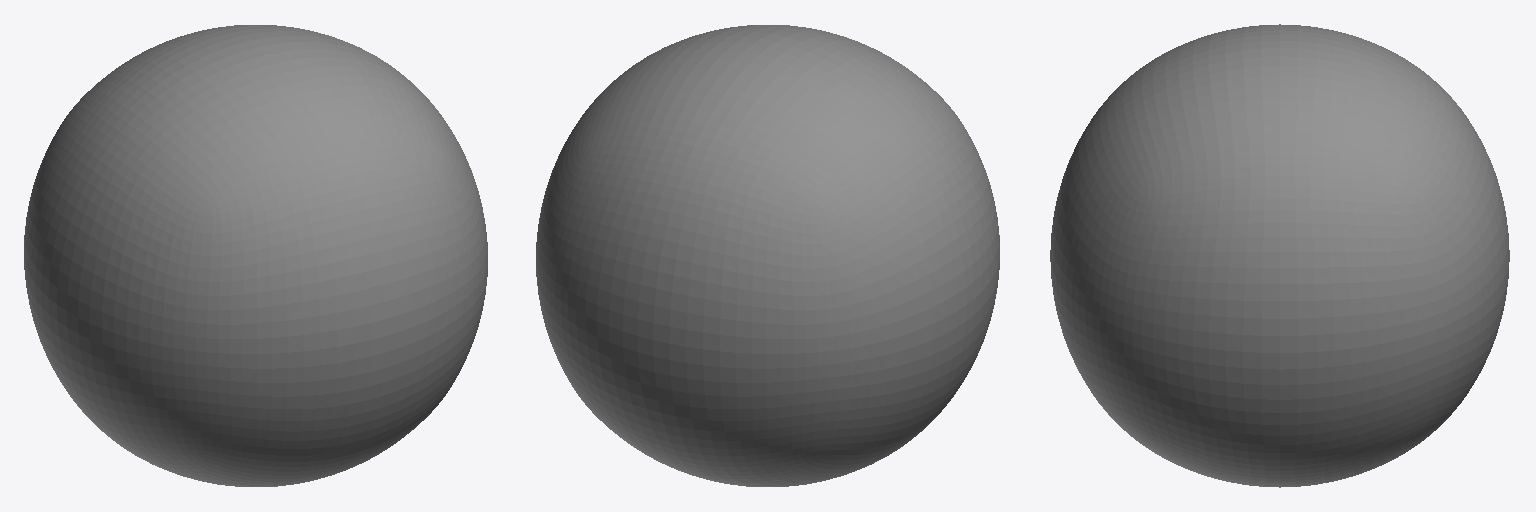
File: ball.obj
3 views of the same model, side by side, from view 1: azimuth 30°, elevation 25°; view 2: azimuth 150°, elevation 25°; view 3: azimuth 270°, elevation 25° (orthographic).
Parts seen in each view (by area): view 1: 10536_soccerball_V1; view 2: 10536_soccerball_V1; view 3: 10536_soccerball_V1.
Part boxes in pixels (x1,y1,x2,y2): 10536_soccerball_V1: (24,25,487,486); 10536_soccerball_V1: (536,25,999,486); 10536_soccerball_V1: (1050,24,1509,487).
Size of the model in its own units: 14.51 by 14.51 by 14.51.